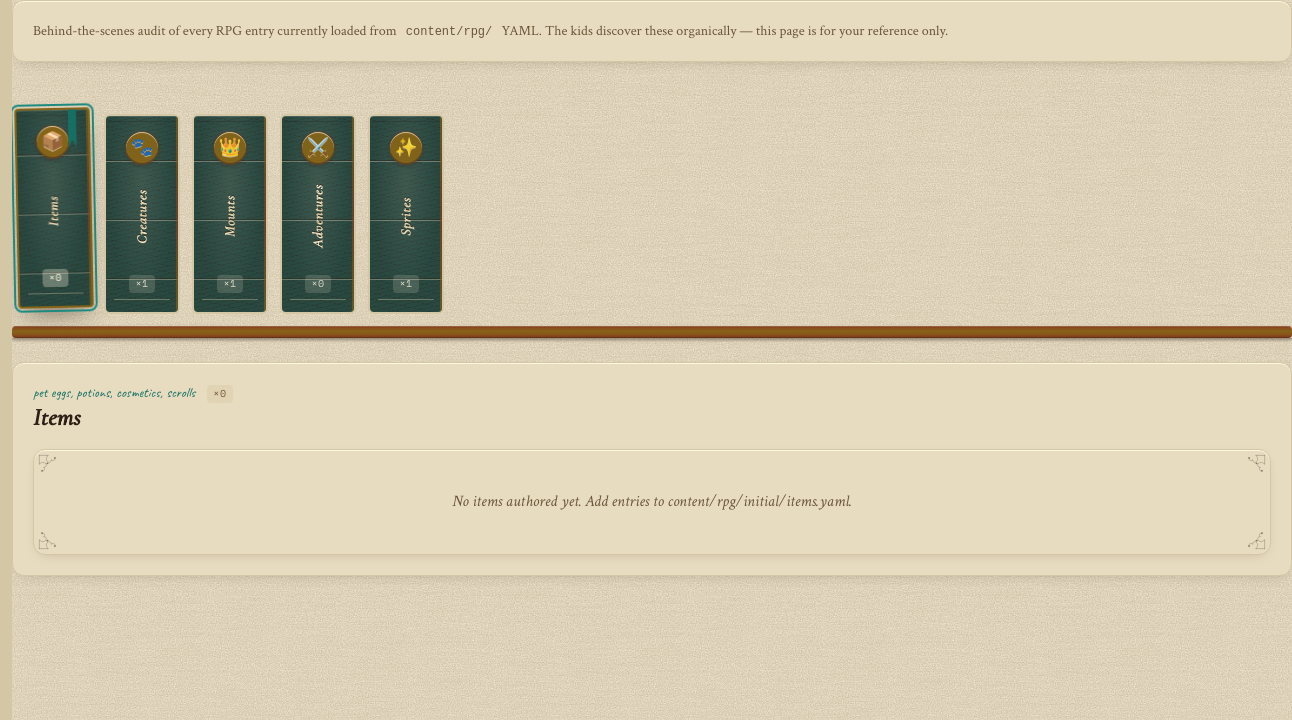
Test: CodexSection › clicking the Sprites spine swaps in the sprites grid
The width and height of the screenshot is (1292, 720).
Note: Wait for the shelf to render, then activate the Sprites spine.
Click the tab "✨ Sprites ×1" at [406, 214], box top-left (368, 114), bottom-right (444, 314)
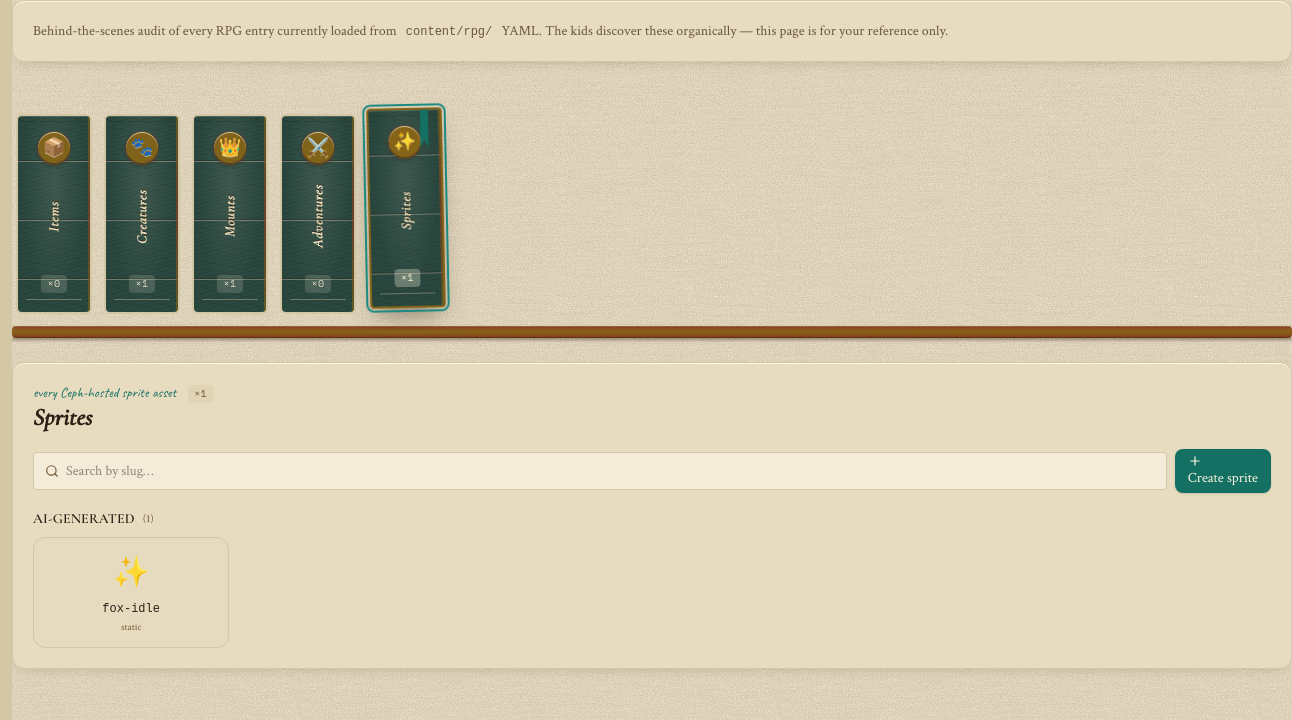
Now the text "fox-idle" is shown, box top-left (102, 602), bottom-right (160, 616)
